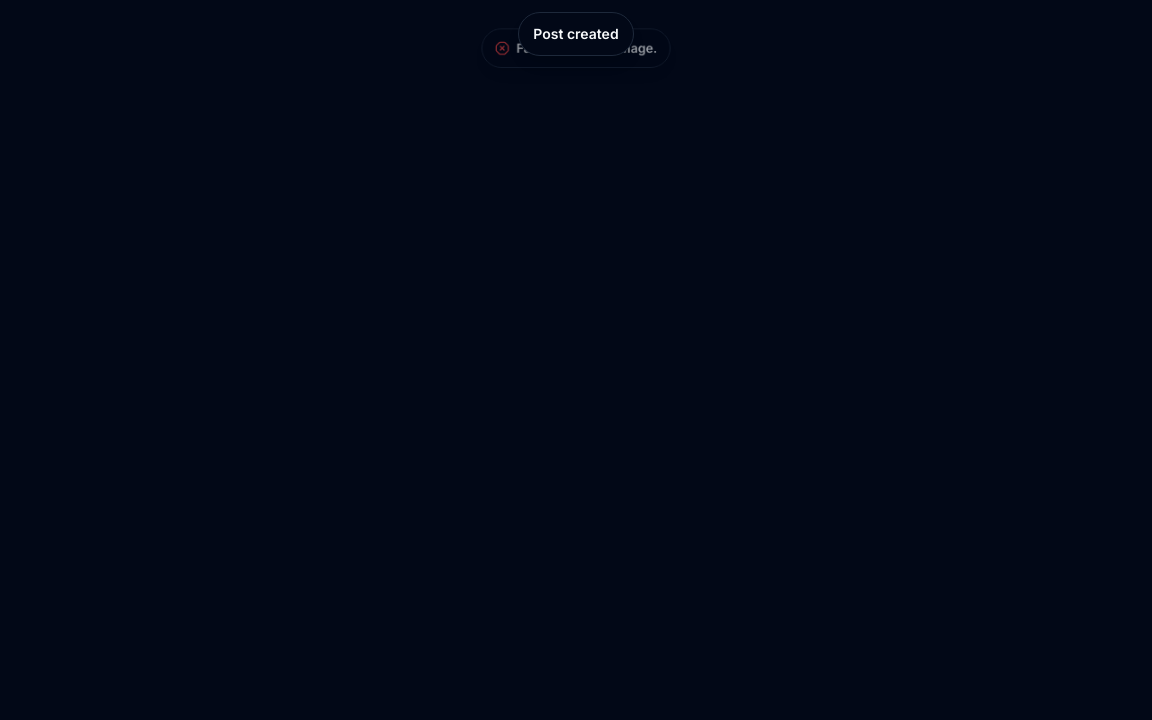
compact toast actions › shows the description instead of a generic "Error" title, and expands extra detail on tap
Check: the heading "Failed to upload image." is shown, box x1=516 y1=39 x2=657 y2=57
Check: the text "2,000 sats reward is live." is not shown
Click the button "Post created" at (576, 34), box x1=518 y1=12 x2=634 y2=56
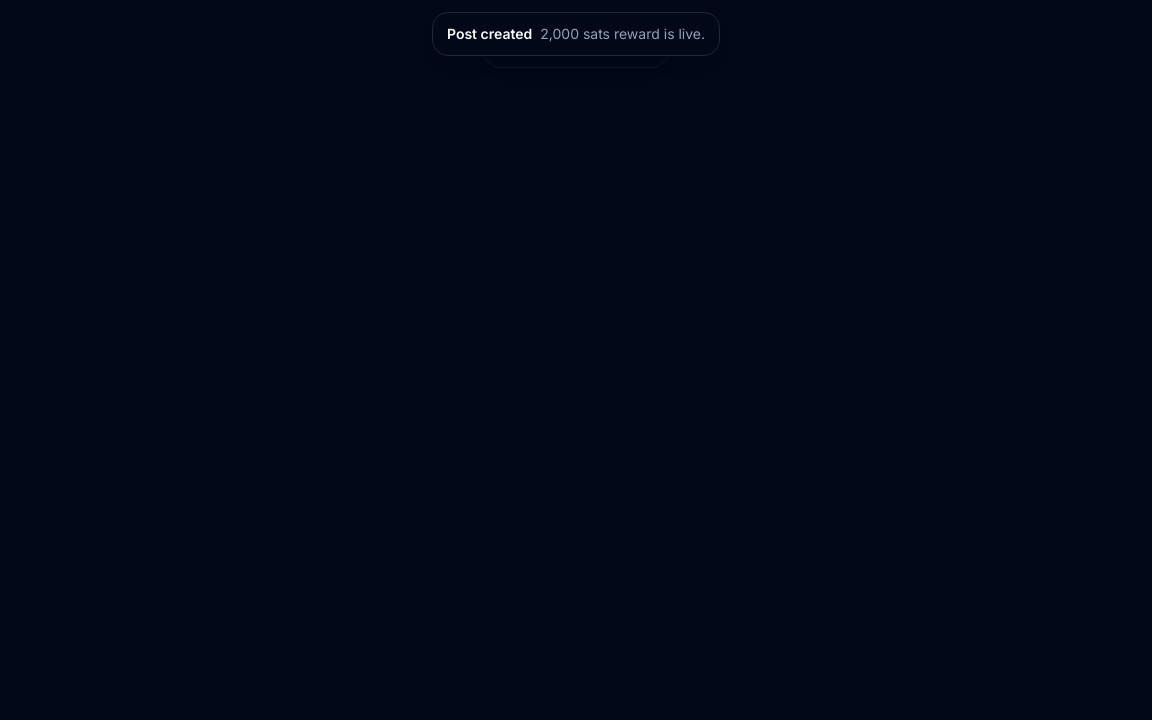
Check: the text "2,000 sats reward is live." is shown, box x1=540 y1=24 x2=705 y2=44
